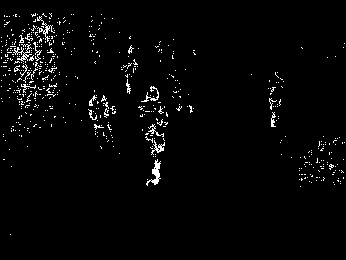person: (138, 85, 175, 197), (83, 86, 118, 156)
